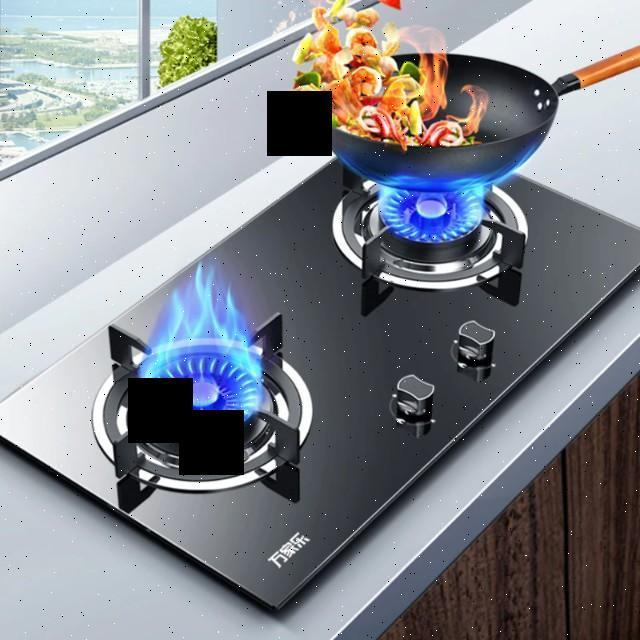Flame: (128, 265, 299, 446), (375, 163, 530, 249)
Pan: (276, 30, 640, 191)
